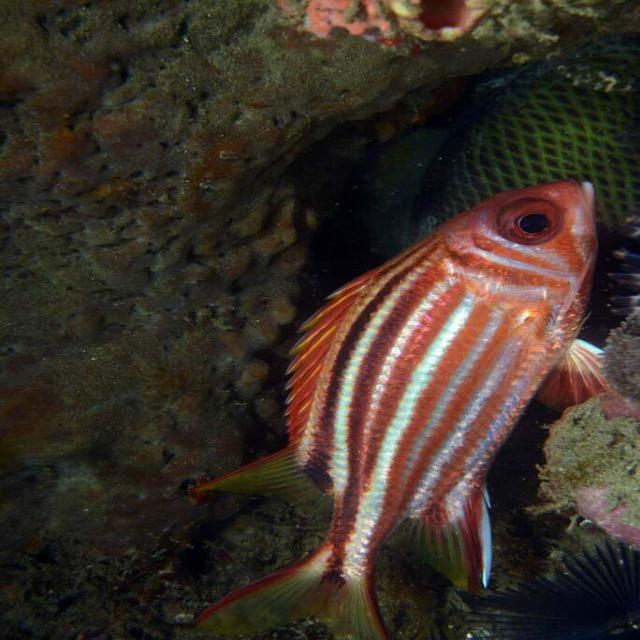Asker Baligi: (159, 166, 636, 640)
